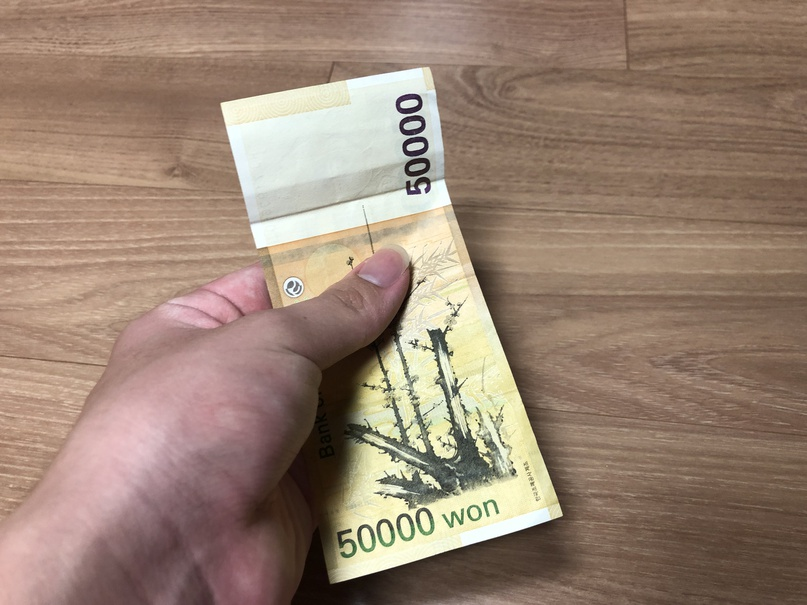50000won: (221, 66, 564, 586)
